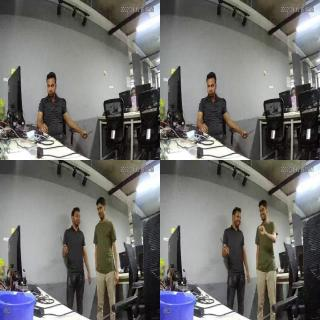knife: (242, 126, 256, 140), (58, 235, 66, 253), (82, 128, 94, 138), (219, 233, 226, 250)
